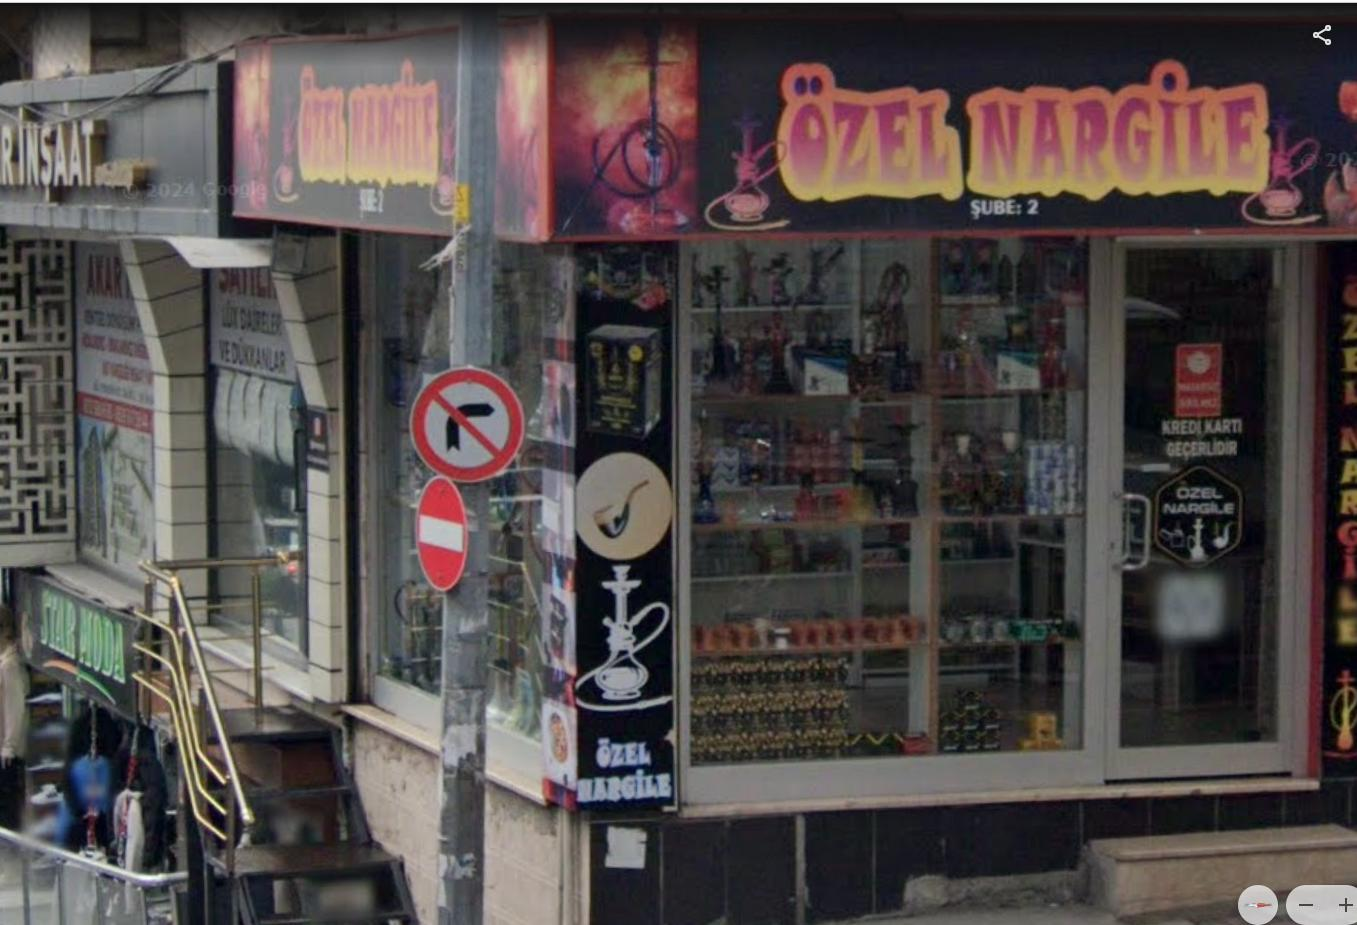rightturnsareforbidden: (417, 373, 519, 482)
